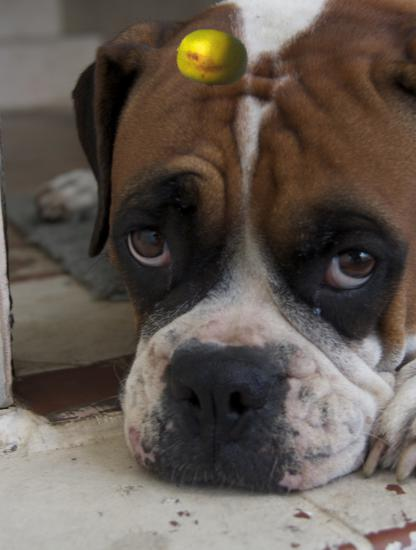Pomelo: (176, 21, 250, 95)
